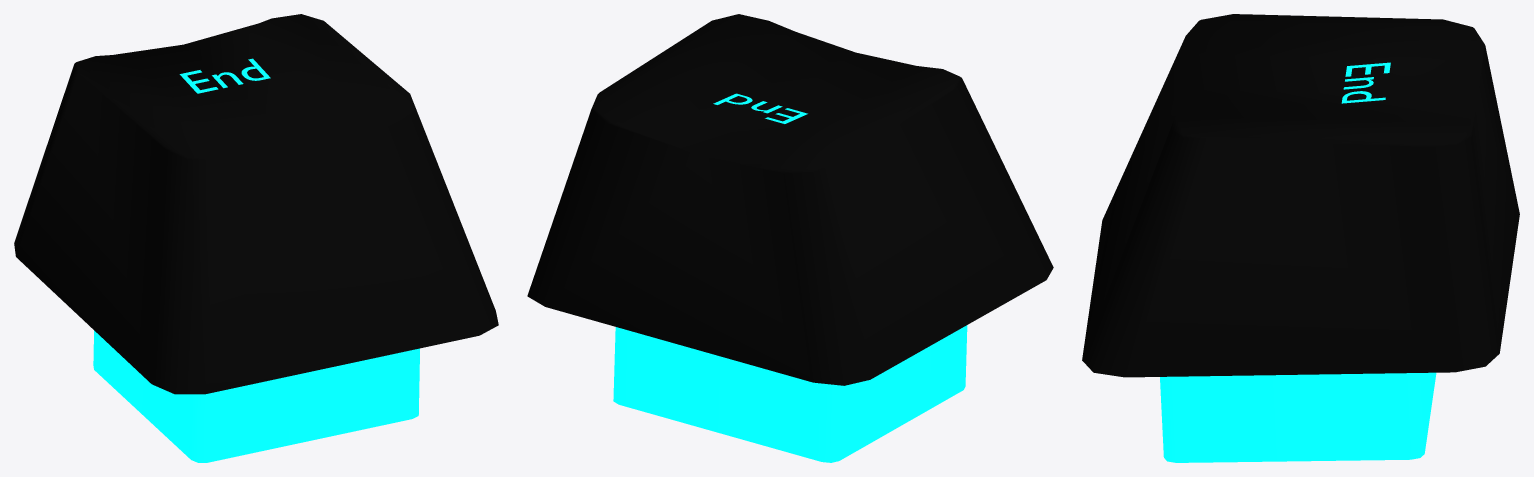
File: key_end-pLRTTOhc.glb
3 renders of one model, left to right at view 1: azimuth 30°, elevation 25°; view 2: azimuth 150°, elevation 25°; view 3: azimuth 270°, elevation 25°, orthographic. The views are drawn at different scales.
Parts seen in each view (by area): view 1: StudyShelf_1084; view 2: StudyShelf_1084; view 3: StudyShelf_1084.
Boxes of the visible parts, x1=… form: StudyShelf_1084: x1=14, y1=14, x2=498, y2=462; StudyShelf_1084: x1=527, y1=14, x2=1053, y2=462; StudyShelf_1084: x1=1082, y1=14, x2=1519, y2=462.
Size of the model in its own units: 4.35 by 3.62 by 4.35.
